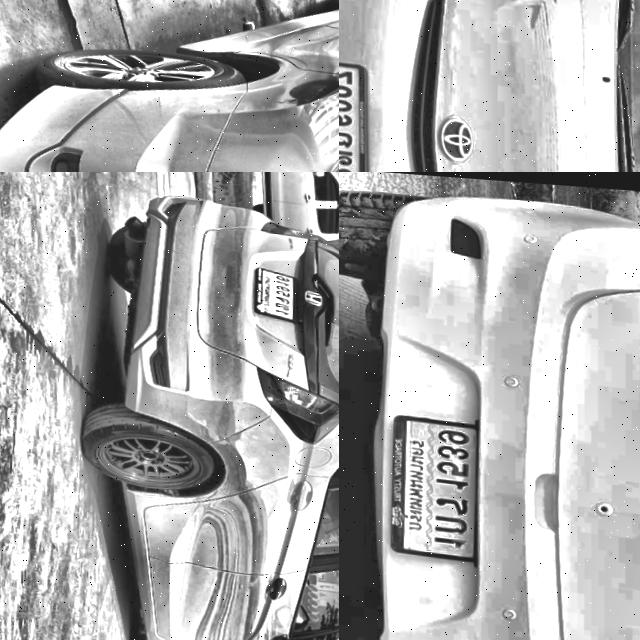license-plate: (376, 409, 481, 563), (339, 49, 374, 172), (246, 259, 301, 321)
